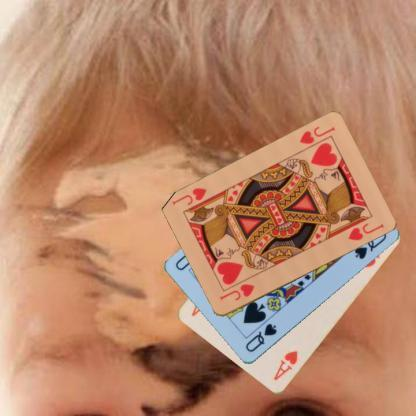Ah: (270, 348, 300, 382)
Jh: (296, 124, 336, 146), (217, 282, 255, 302)
Qs: (243, 321, 278, 354)
